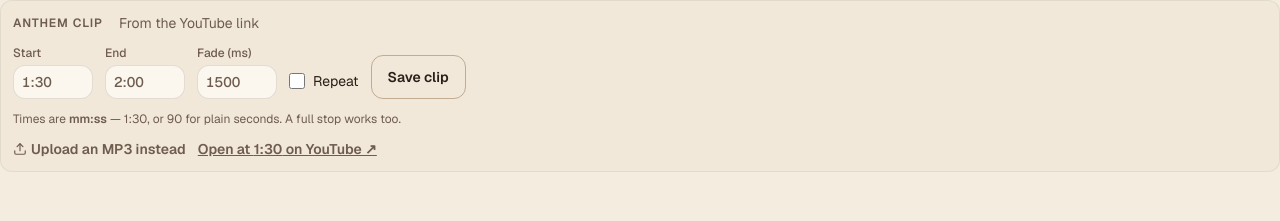
Test case: SongClipEditor › shows the server's refusal
The image size is (1280, 221).
Click the button "Save clip" at point(418, 77), box [371, 55, 466, 99]
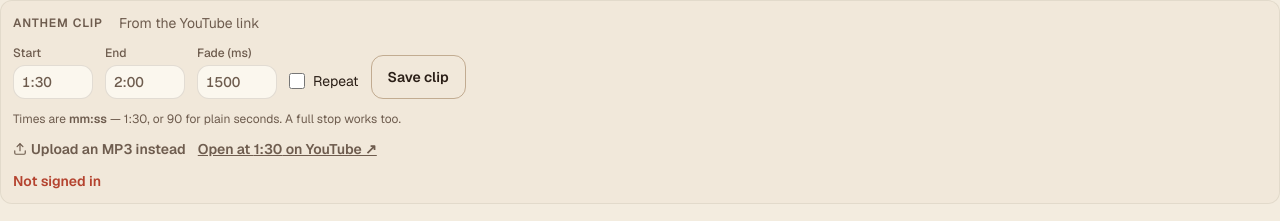
expect the message reads "Not signed in": met, box [13, 172, 101, 190]
